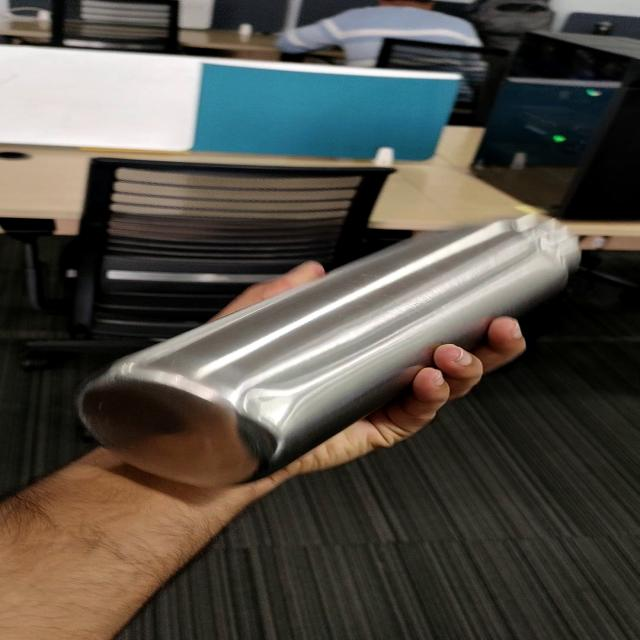bottle: (74, 211, 582, 487)
